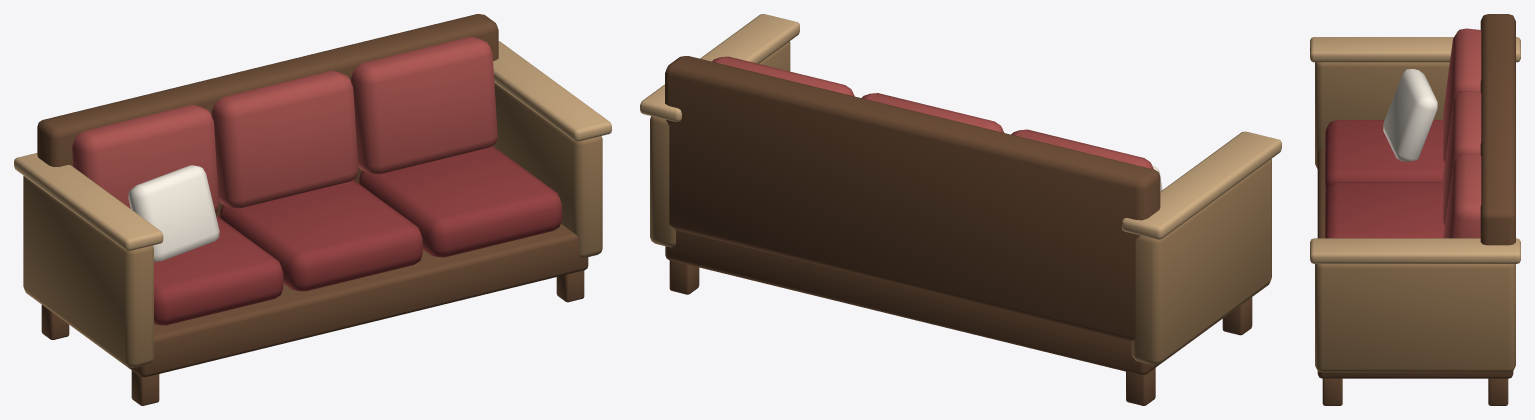
File: sofa.glb
The picture shows the model from 3 angles, left to right: view 1: azimuth 30°, elevation 25°; view 2: azimuth 150°, elevation 25°; view 3: azimuth 270°, elevation 25°; orthographic projection. The views are drawn at different scales.
Visible parts, largest first — view 1: sofa.001; view 2: sofa.001; view 3: sofa.001.
Part boxes in pixels (x1,y1,x2,y2): sofa.001: [14, 14, 611, 405]; sofa.001: [640, 14, 1281, 405]; sofa.001: [1310, 14, 1520, 405].
Size of the model in its own units: 2.06 by 0.86 by 0.84.
